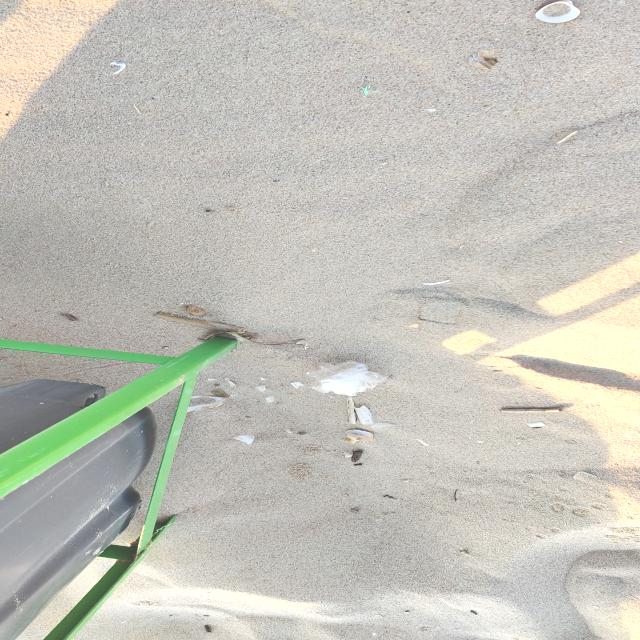Plastic film: (306, 361, 394, 396)
